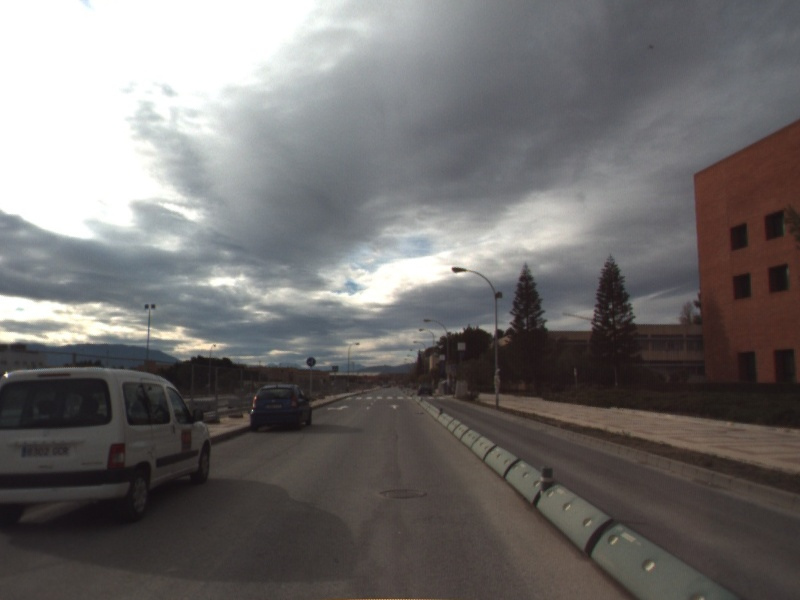STRAIGHT: (387, 403, 402, 411)
STRAIGHT_LEFT: (326, 403, 351, 412)
